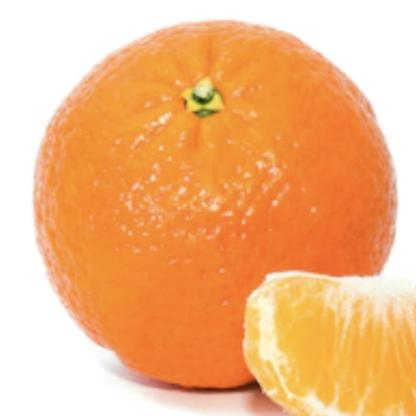fresh: (35, 19, 400, 387)
